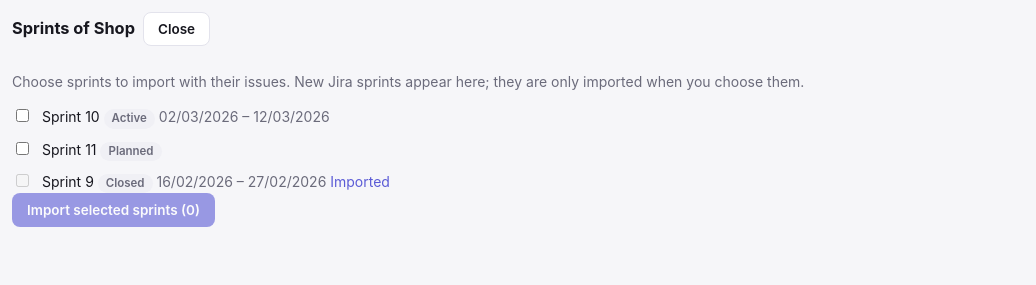
Test case: the sprints of an imported space › imports the picked ids, says it is done, clears the picks and loads the list again
Expected: the button "Import selected sprints (0)" is disabled, x1=12 y1=193 x2=215 y2=227
Click the checkbox named "Select Sprint 10" at (22, 116), box x1=16 y1=109 x2=29 y2=122
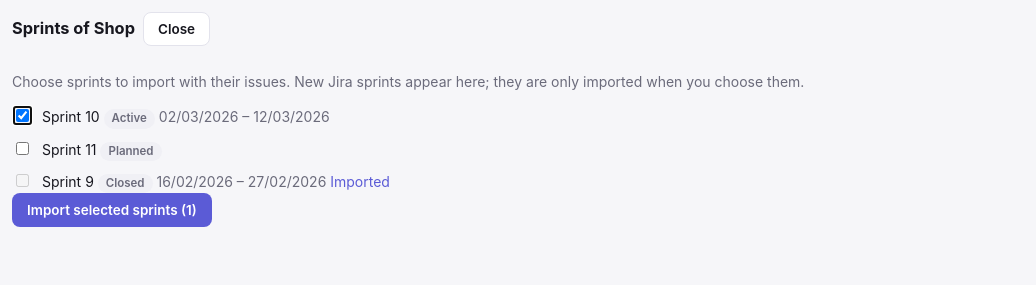
Click the checkbox named "Select Sprint 11" at (22, 148), box x1=16 y1=142 x2=29 y2=155
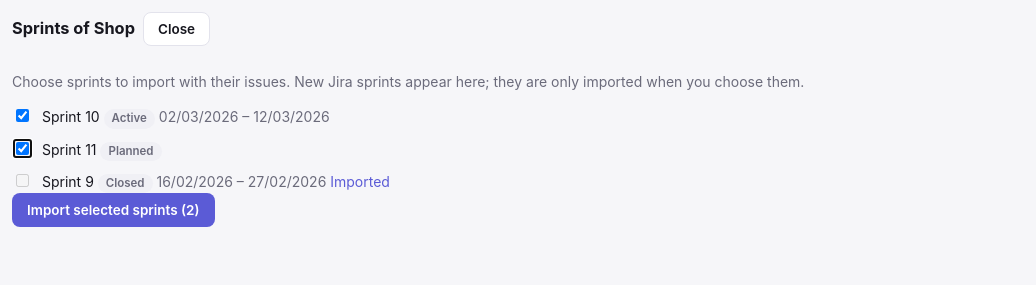
Click the button "Import selected sprints (2)" at (113, 210), box x1=12 y1=193 x2=215 y2=227
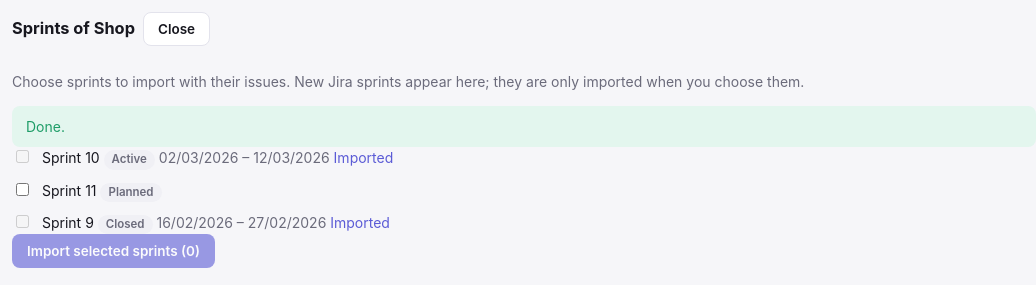
Expected: the text "Done." is shown, x1=12 y1=106 x2=1035 y2=147
Expected: the checkbox named "Select Sprint 10" is disabled, x1=16 y1=150 x2=29 y2=163
Expected: the button "Import selected sprints (0)" is disabled, x1=12 y1=234 x2=215 y2=268
